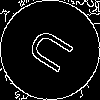U: (25, 25, 83, 81)
